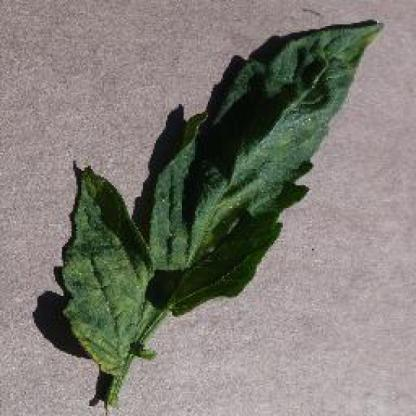Tomato_Leaf_Mold: (60, 168, 154, 375)
